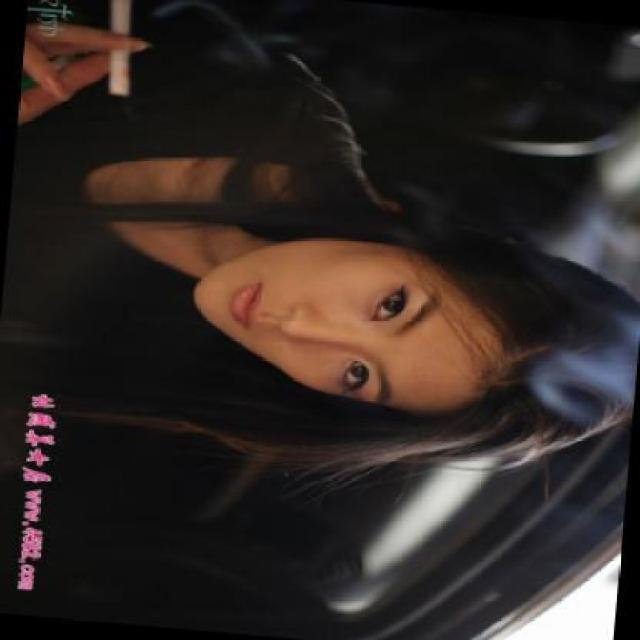cigarette: (95, 0, 138, 100)
